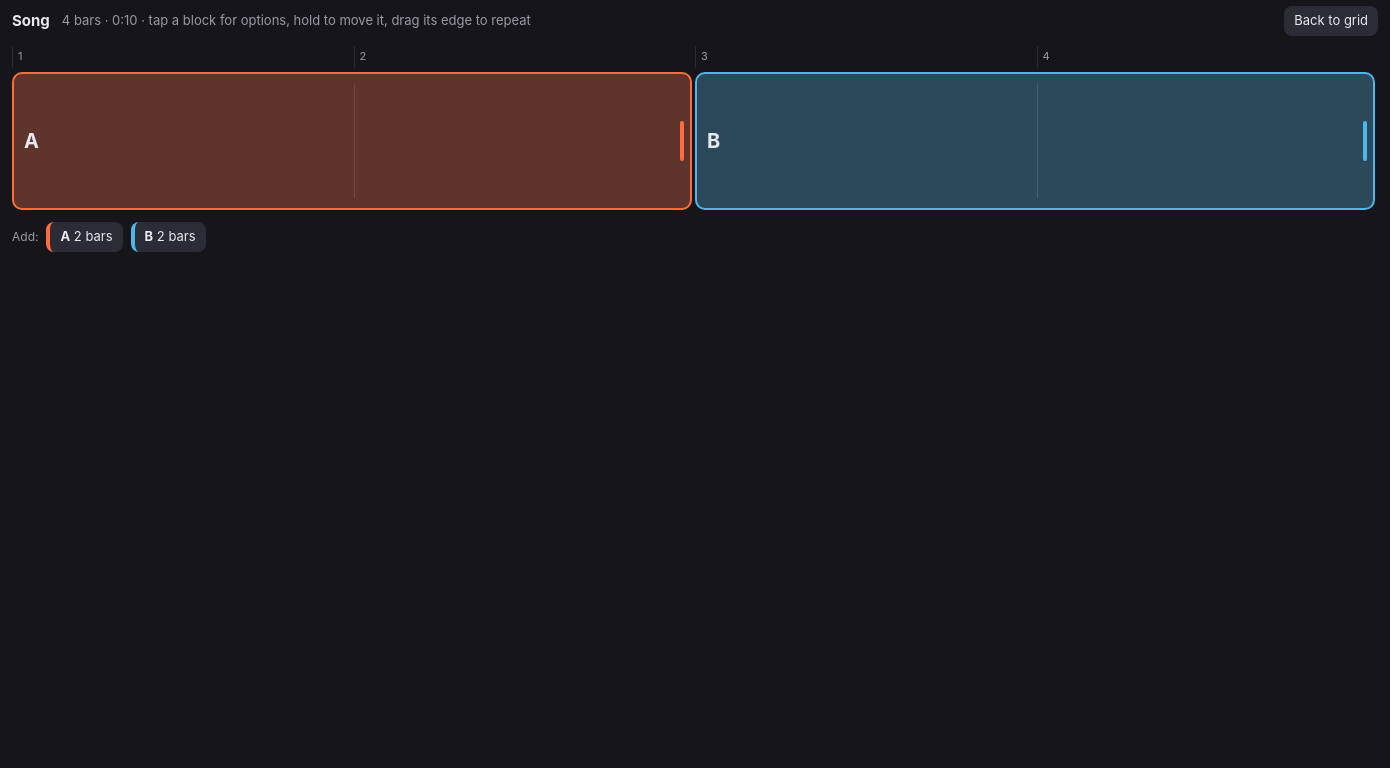
Scenario: SongView › sets repeats, swaps the pattern and removes blocks from the block menu
Press the mouse on the button "A": {"x": 31, "y": 141} [12,72,692,210]
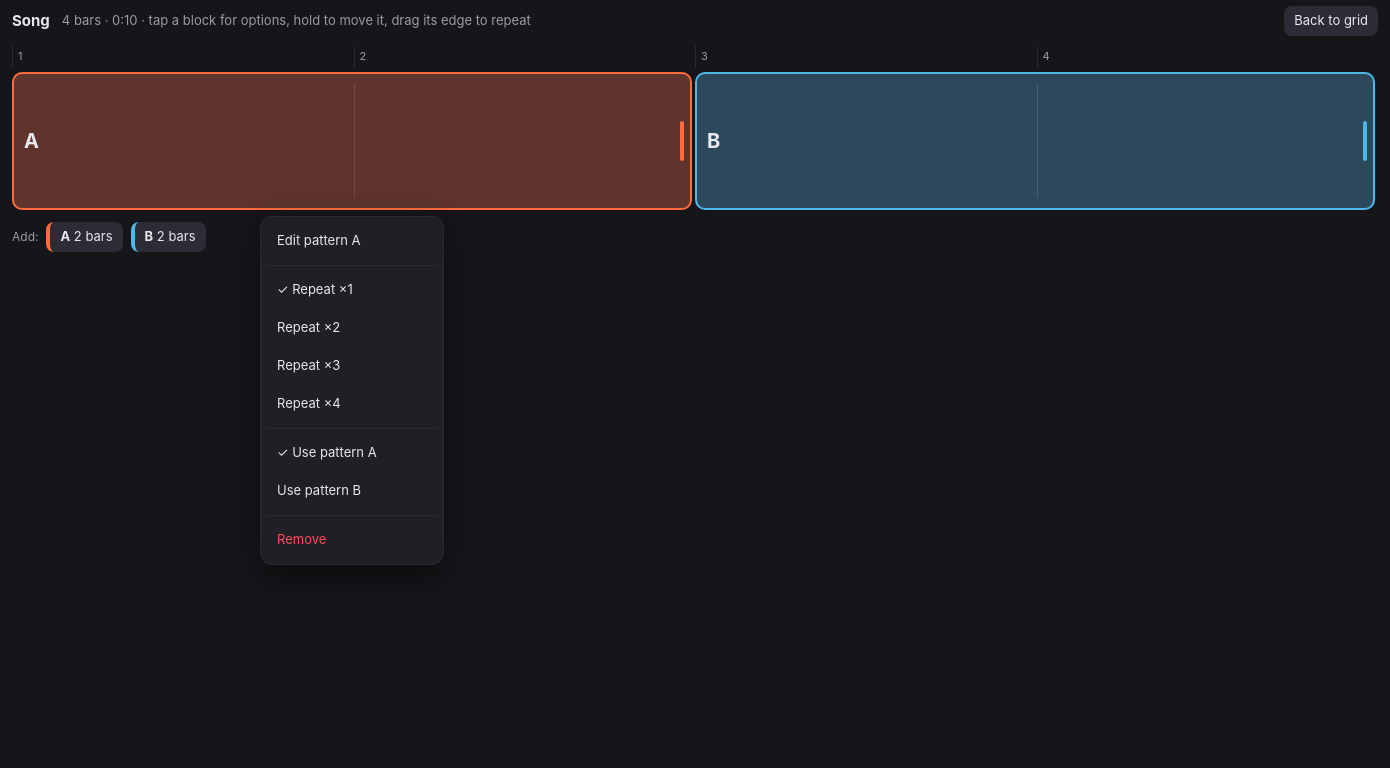
Click the menu item "Repeat ×3": {"x": 352, "y": 366} [267,348,437,384]
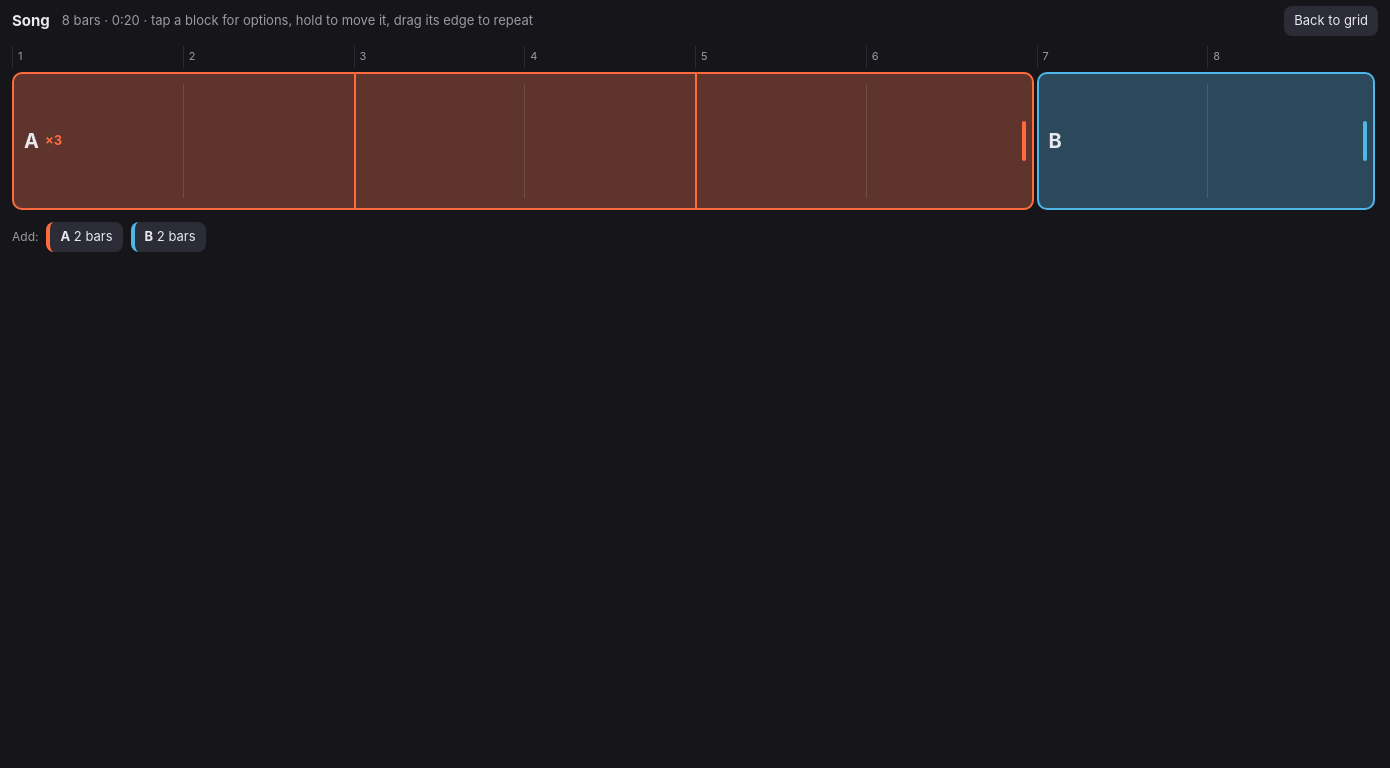
Press the mouse on the button "A ×3": {"x": 354, "y": 141} [12,72,1034,210]
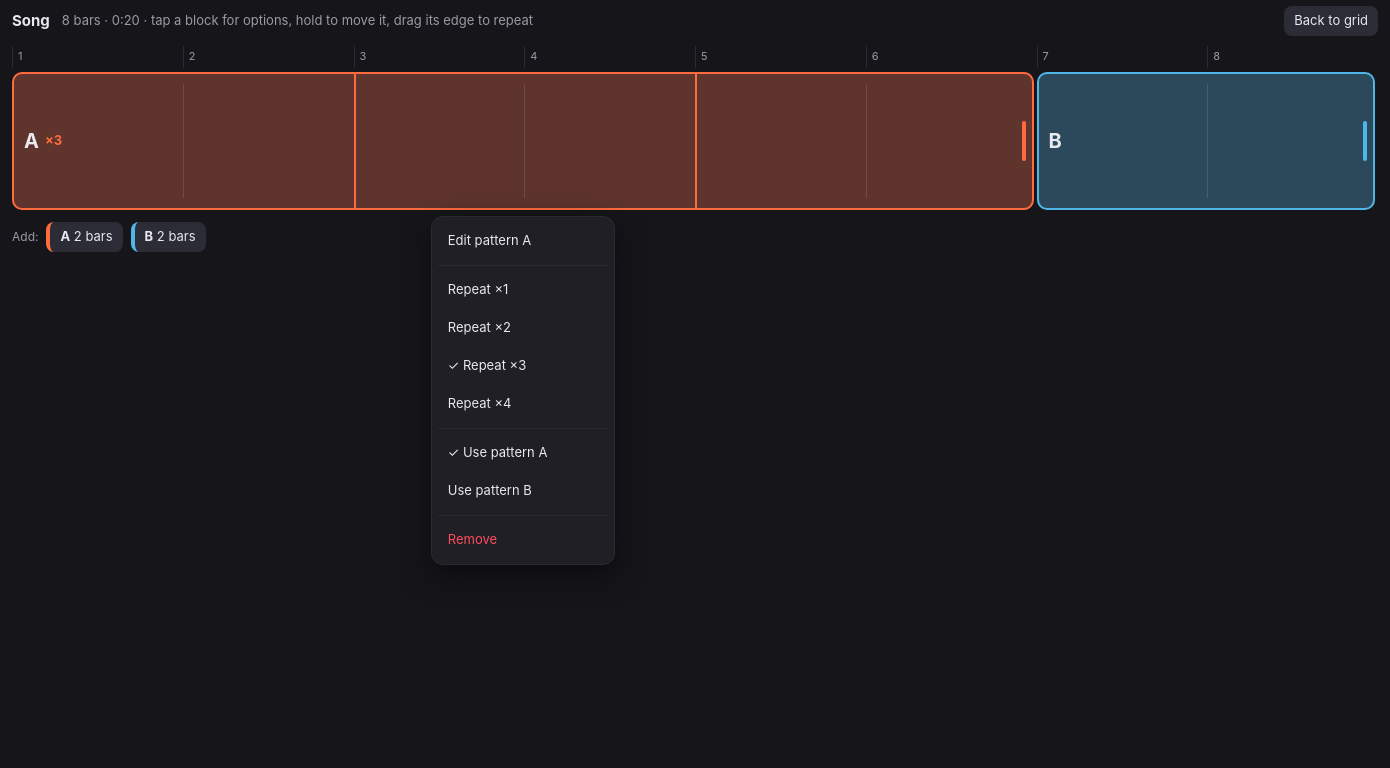
Click the menu item "Use pattern B": {"x": 523, "y": 491} [438,473,608,509]
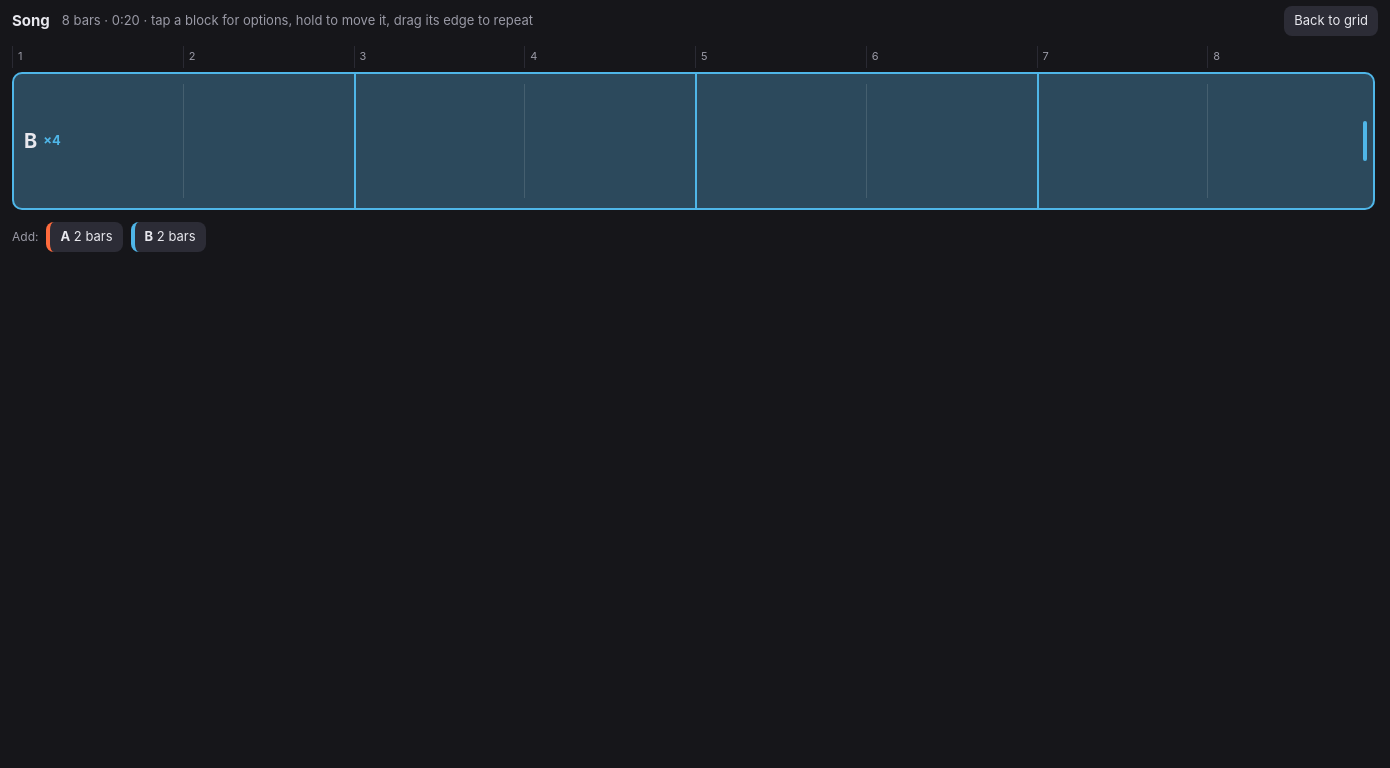
Press the mouse on the button "B ×4": {"x": 694, "y": 141} [12,72,1375,210]
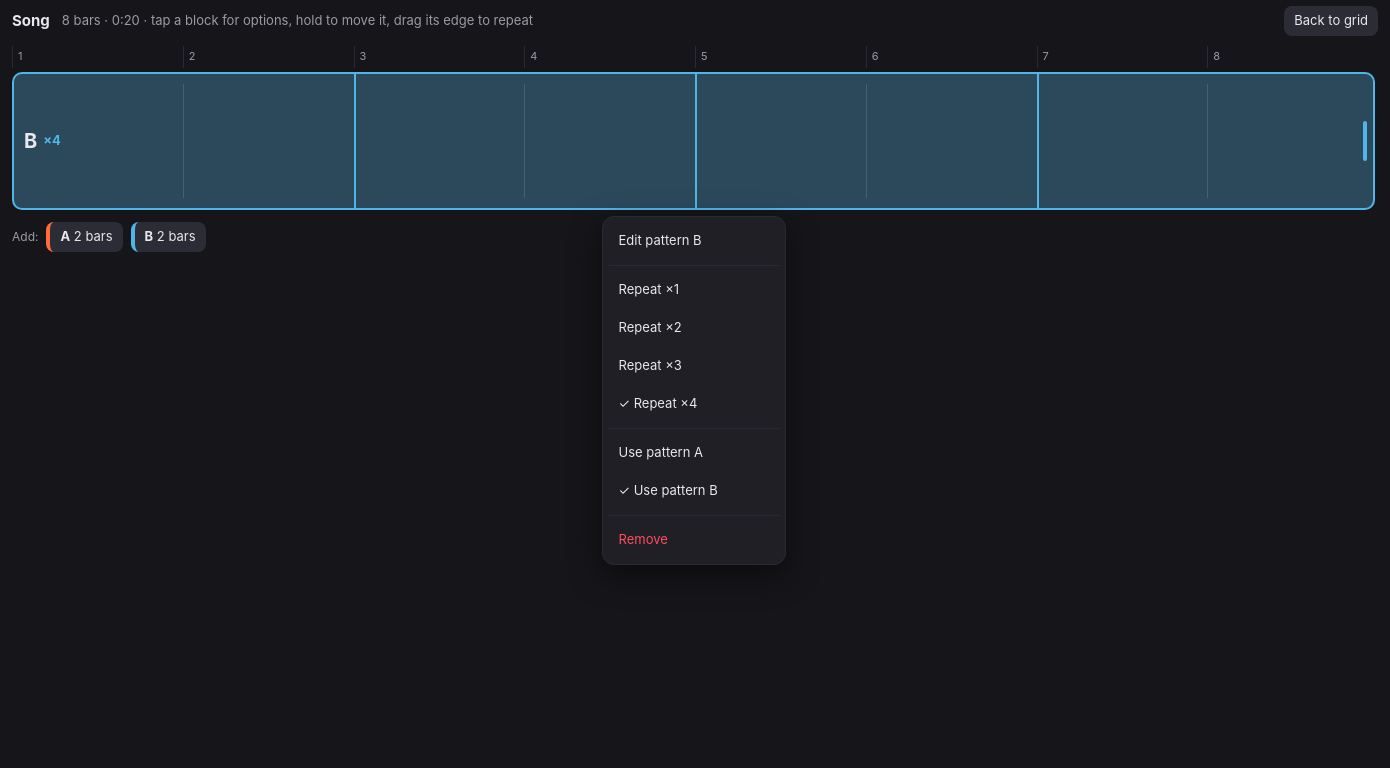
Click the menu item "Remove": {"x": 694, "y": 540} [608,522,778,558]
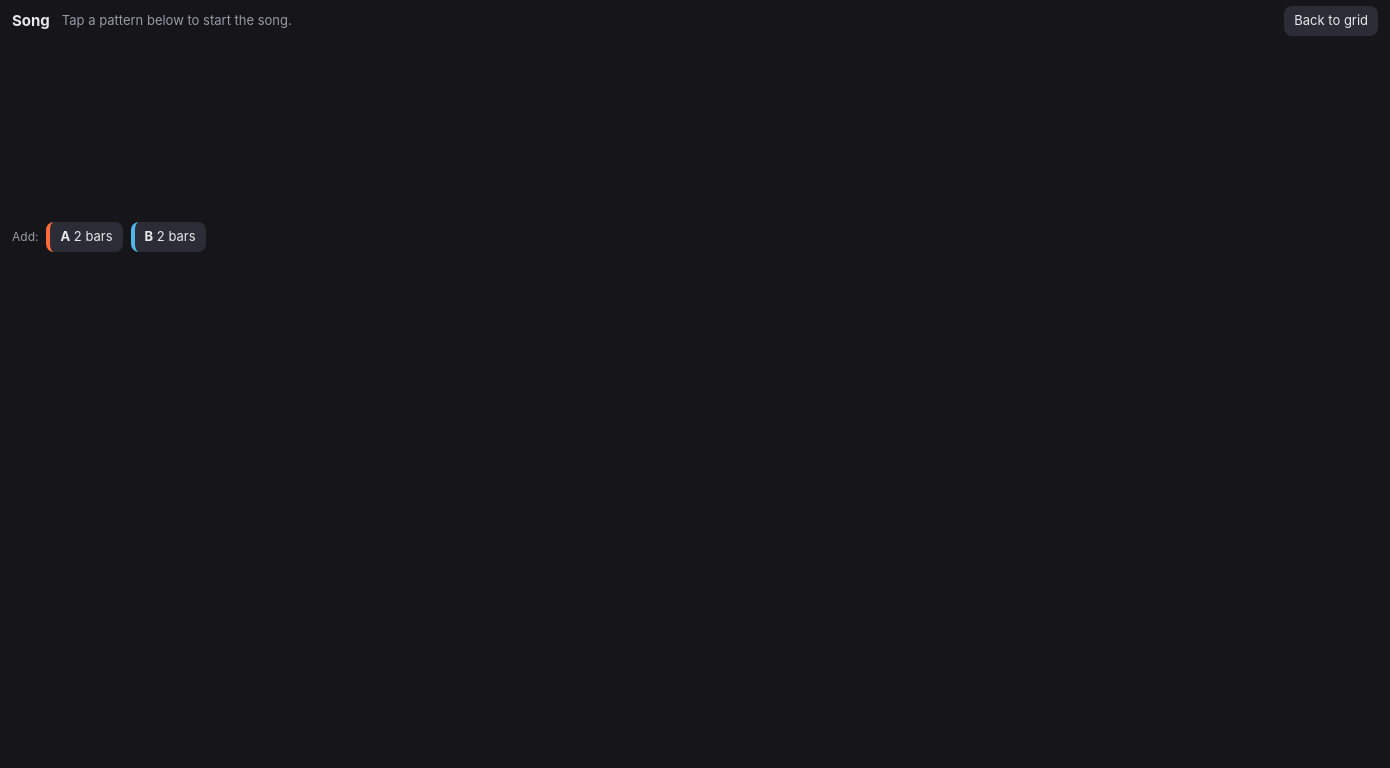
Expected: the text "Tap a pattern below to start the song." is shown, [62,12,292,28]
